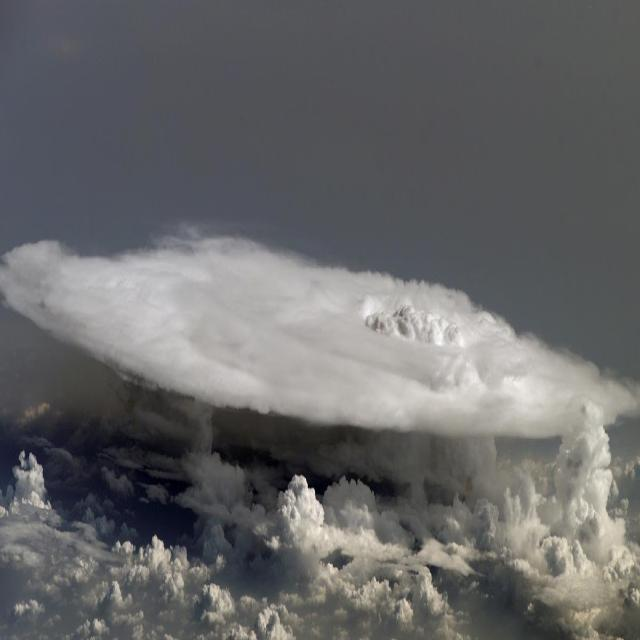cumulonimbus: (0, 84, 640, 636)
